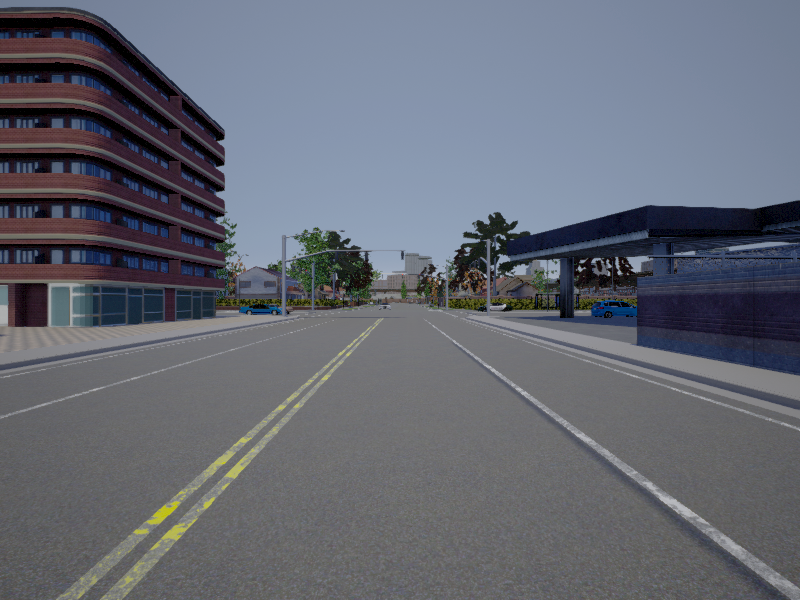benign: (589, 299, 639, 318), (238, 303, 288, 316), (477, 301, 513, 313), (378, 303, 392, 311)
